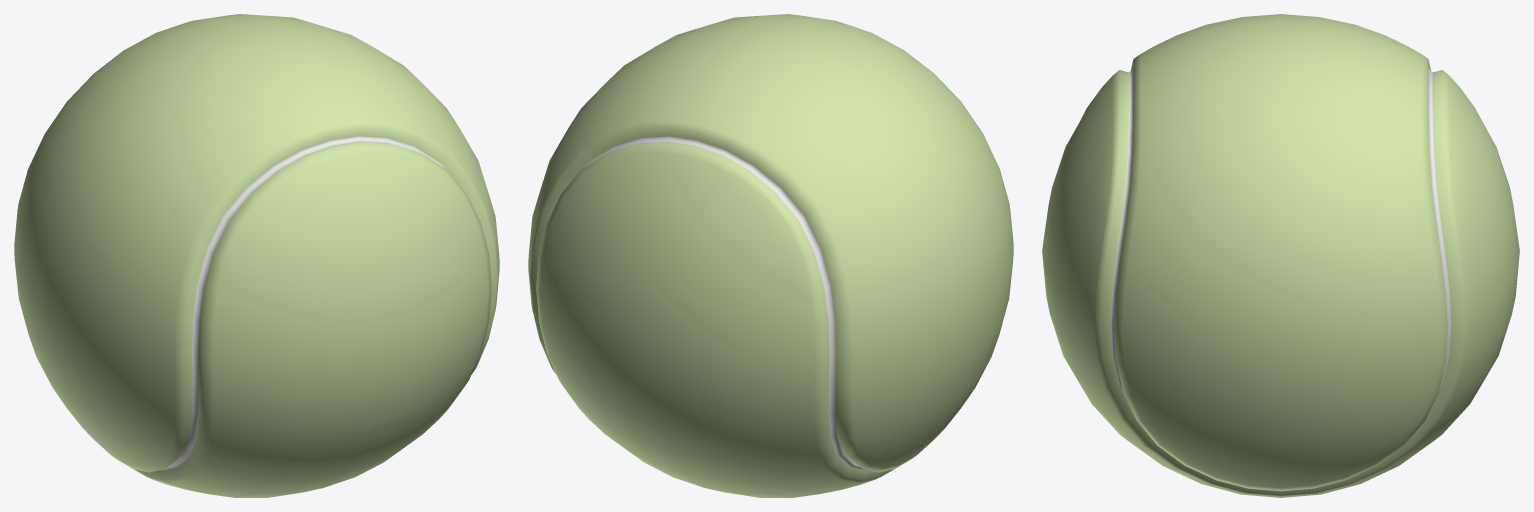
The model's file is Tennisball.fbx.
The picture shows the model from 3 angles, left to right: view 1: azimuth 30°, elevation 25°; view 2: azimuth 150°, elevation 25°; view 3: azimuth 270°, elevation 25°; orthographic projection.
Visible parts, largest first — view 1: pCube1; view 2: pCube1; view 3: pCube1.
Part boxes in pixels (x1,y1,x2,y2): pCube1: (14, 14, 499, 497); pCube1: (528, 14, 1013, 497); pCube1: (1042, 14, 1519, 497).
Size of the model in its own units: 1.07 by 1.08 by 1.07.
